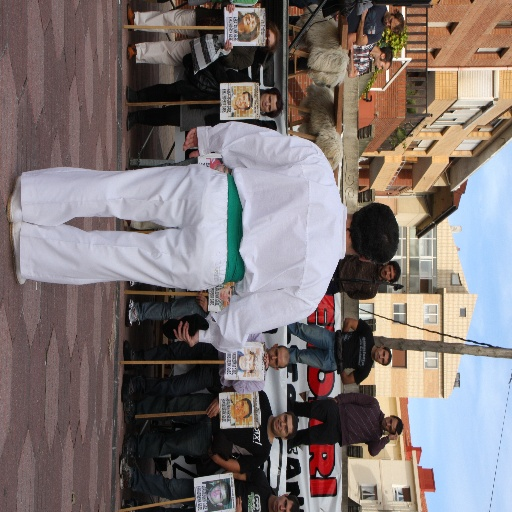hand: (171, 320, 199, 347), (180, 124, 199, 159), (204, 397, 220, 421), (194, 291, 206, 315), (207, 435, 215, 459), (224, 1, 235, 14), (262, 351, 269, 371), (235, 494, 242, 511), (388, 430, 398, 440), (224, 39, 232, 50), (362, 8, 368, 18)
